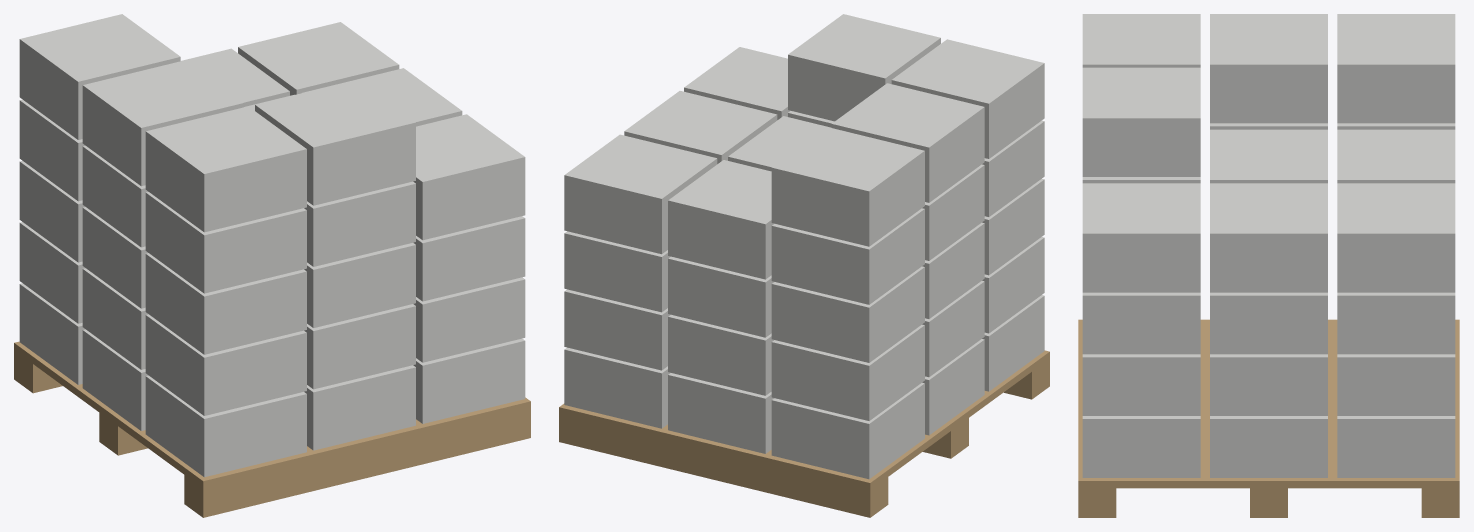
Rendered from pallet_mp_40.glb.
3 renders of one model, left to right at view 1: azimuth 30°, elevation 25°; view 2: azimuth 150°, elevation 25°; view 3: azimuth 270°, elevation 25°, orthographic. The views are drawn at different scales.
Parts seen in each view (by area): view 1: PalletMP; view 2: PalletMP; view 3: PalletMP.
Boxes of the visible parts, left/top/right/bottom form: PalletMP: left=14, top=14, right=530, bottom=517; PalletMP: left=559, top=14, right=1049, bottom=517; PalletMP: left=1078, top=14, right=1459, bottom=517.
Size of the model in its own units: 1 by 0.9957 by 1.
